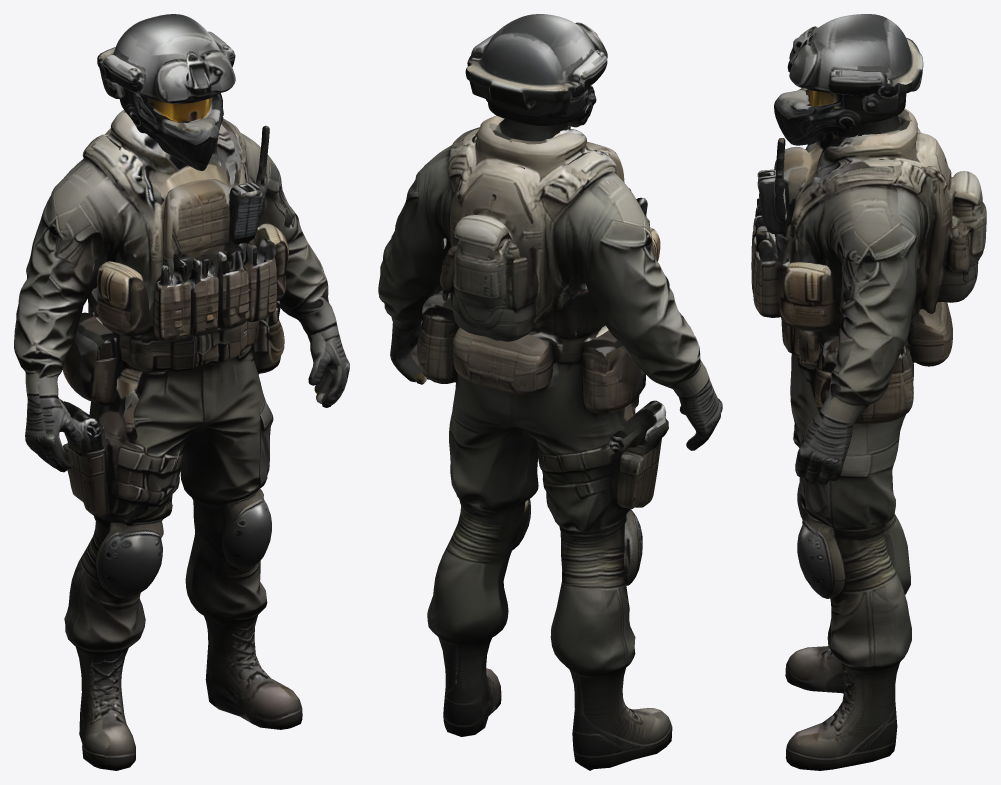
Rendered from SoldierMilitary.glb.
3 views of the same model, side by side, from view 1: azimuth 30°, elevation 25°; view 2: azimuth 150°, elevation 25°; view 3: azimuth 270°, elevation 25° (orthographic). The views are drawn at different scales.
Parts seen in each view (by area): view 1: Soldier; view 2: Soldier; view 3: Soldier.
Boxes of the visible parts, <box> form: Soldier: <box>14,14,349,770</box>; Soldier: <box>378,14,722,770</box>; Soldier: <box>751,14,986,770</box>.
Bounding box in the file's own units: 0.8145 × 1.75 × 0.5315.
Materials: 1 (1 with a texture image).
